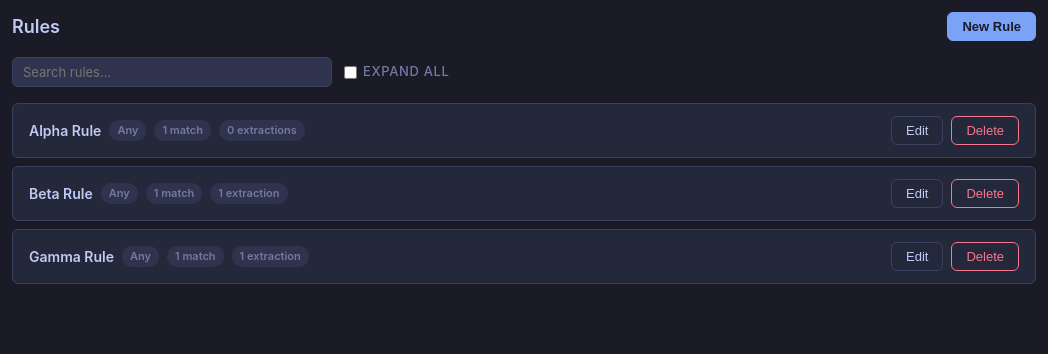
Test: RuleList search and expand-all › auto-expands matched rules when search is active
Expected: the text "Beta Rule" is shown, [29, 183, 93, 204]
Expected: the text "BETA_PATTERN" is not shown
In the search field with placeholder "Search rules...": (172, 72) [12, 57, 332, 87], type "beta"
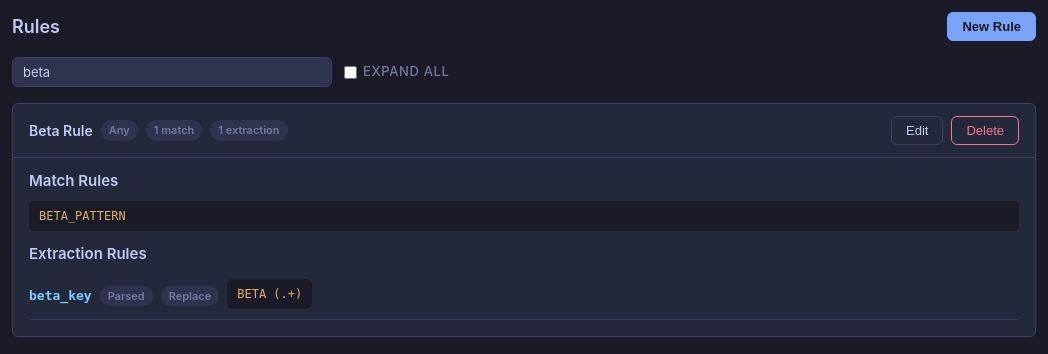
Expected: the text "BETA_PATTERN" is shown, [29, 200, 1019, 230]
